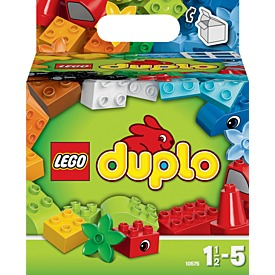LEGO: (41, 129, 95, 192)
